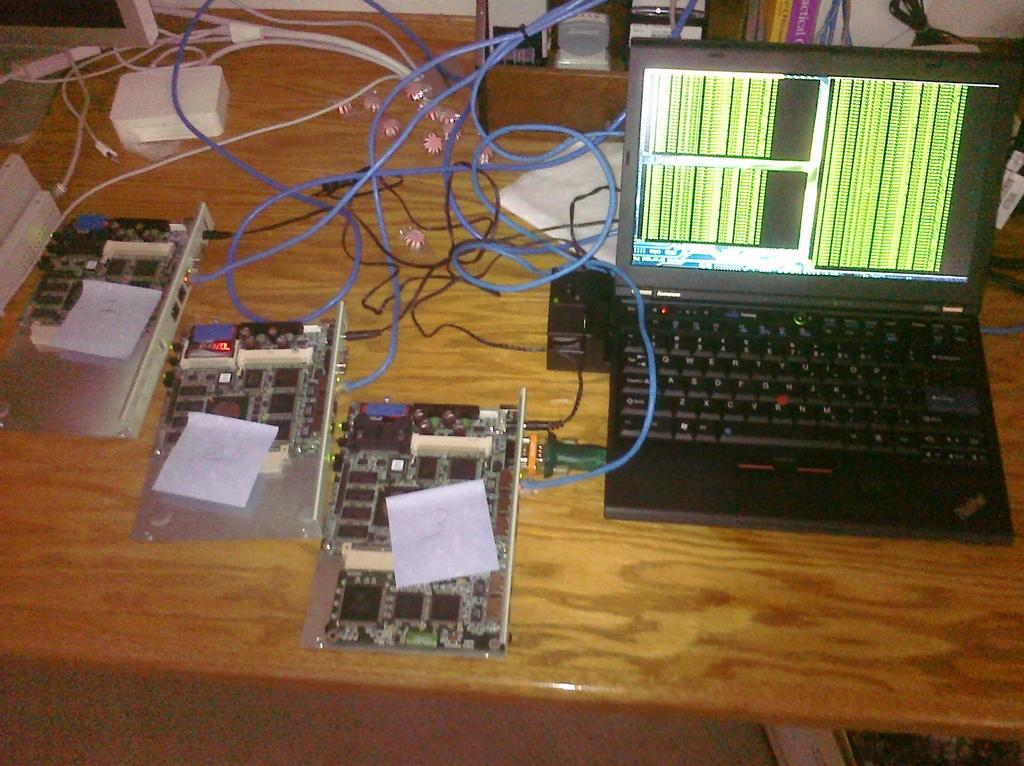Computer-keyboard: (617, 309, 996, 471)
